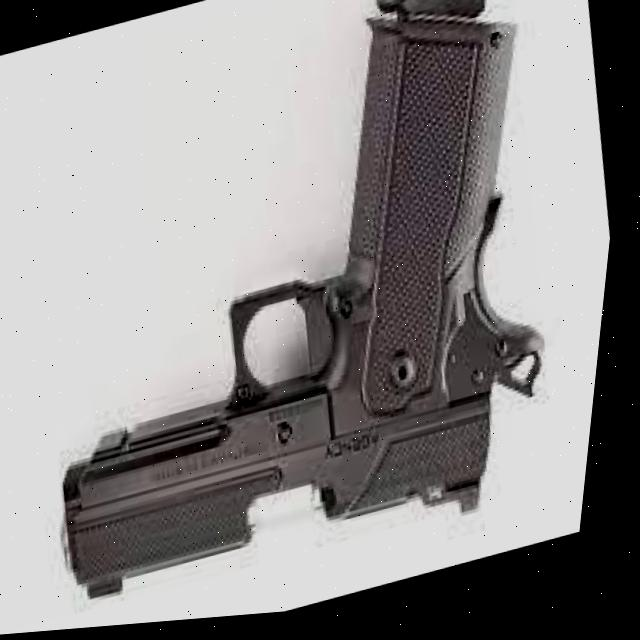gun: (59, 0, 542, 598)
